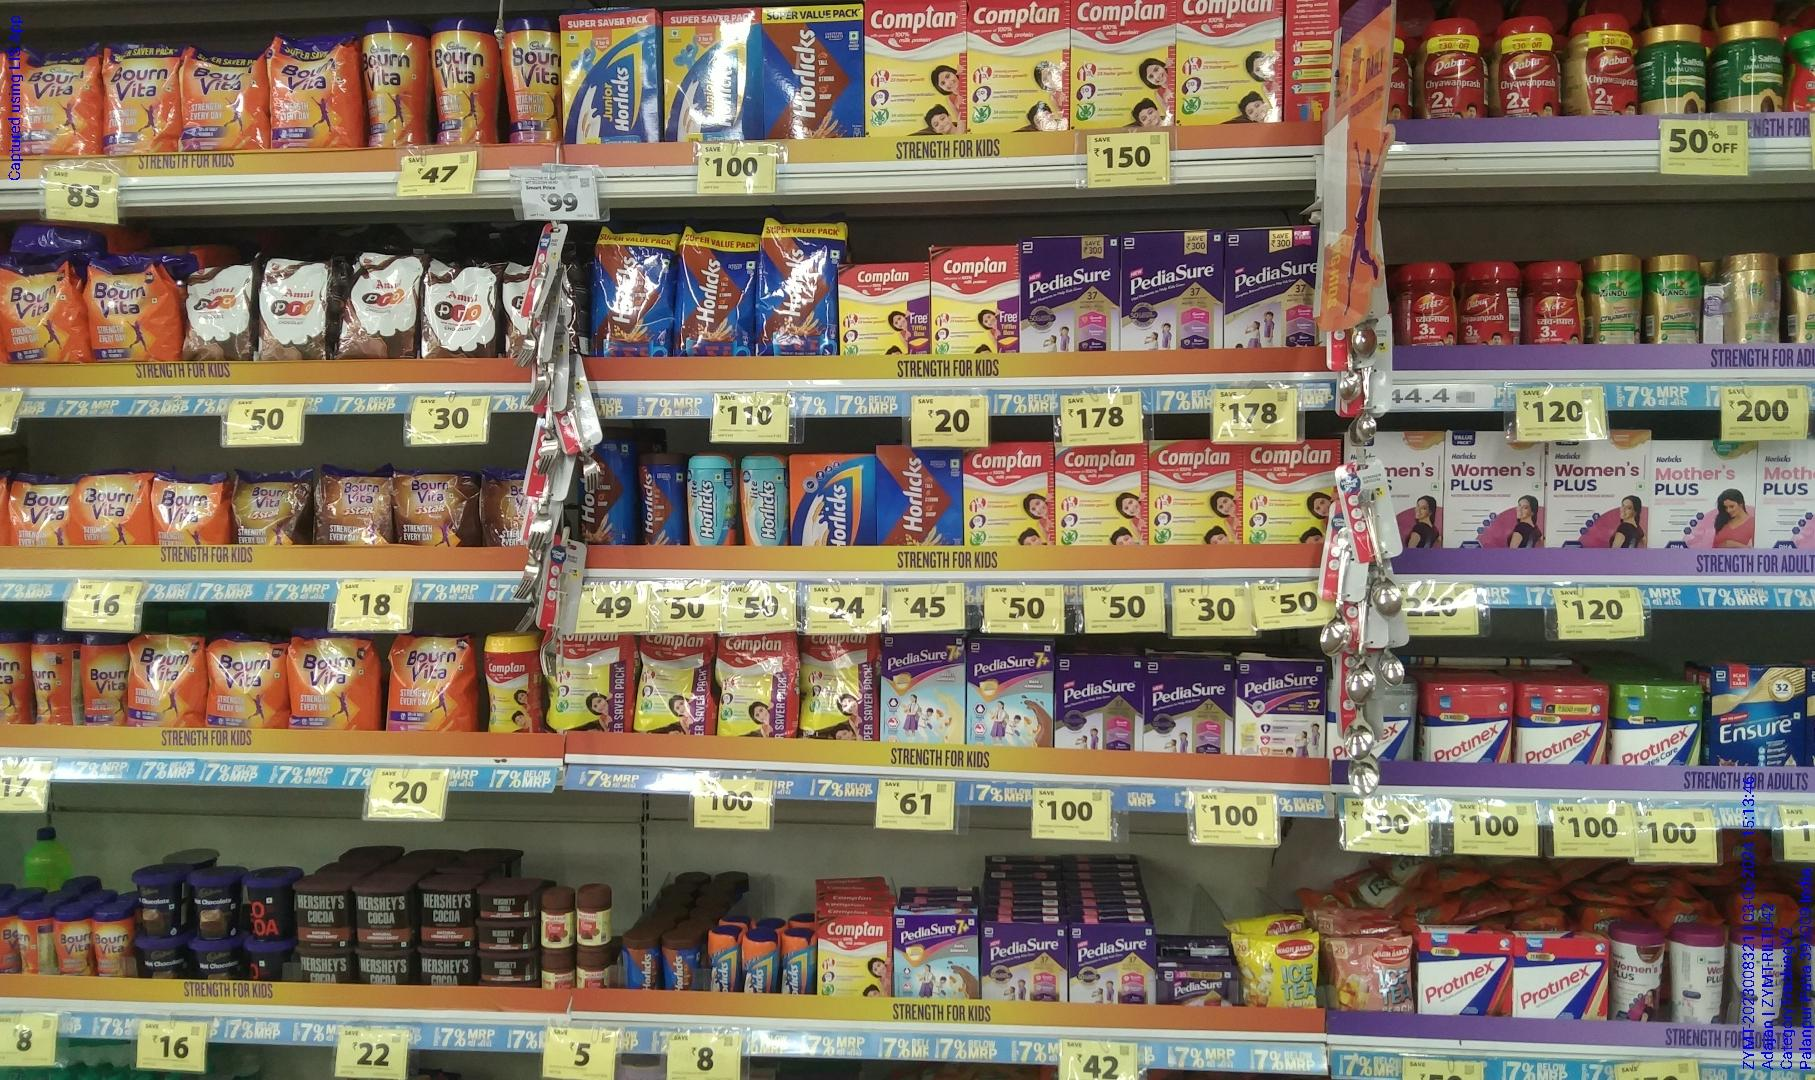BOURN_VITA_1_KG_JAR: (434, 19, 499, 144), (362, 21, 425, 145), (505, 18, 557, 141)
BOURN_VITA_500_G_JAR: (32, 633, 80, 725), (81, 633, 126, 728), (0, 634, 31, 725), (91, 910, 132, 976), (55, 910, 90, 976), (18, 914, 54, 976)
BOURN_VITA_500_G_POUCH: (157, 474, 230, 546)
BOURN_VITA_750_G_POUCH: (269, 36, 361, 149), (292, 631, 380, 730), (103, 44, 181, 154), (0, 261, 84, 364), (87, 265, 177, 359), (388, 635, 474, 733), (186, 50, 269, 150), (211, 633, 288, 729), (129, 635, 203, 725), (73, 471, 153, 546), (12, 476, 75, 545)
BOURN_VITA_FIVE_STAR_MAGIC_500_G_POUCH: (396, 468, 476, 545), (316, 468, 391, 545), (234, 469, 311, 541)
COMPLAN_CHOCOLATE_1_KG_PACK: (866, 1, 967, 135), (1176, 0, 1282, 123), (968, 0, 1067, 131), (1072, 5, 1175, 125)
COMPLAN_CHOCOLATE_200_GMS_PACK: (841, 264, 931, 355), (818, 915, 892, 996)
COMPLAN_CHOCOLATE_500_GMS_JAR: (486, 638, 540, 730)
COMPLAN_CREAMY_CLASSIC_500_G_PACK: (1057, 446, 1149, 546)
COMPLAN_PISTA_BADAM_500_GMS_PACK: (1152, 442, 1242, 544), (1244, 447, 1324, 544)
COMPLAN_RC_POUCH_700_GMS_12: (639, 631, 716, 737), (797, 634, 875, 737), (720, 636, 797, 741), (550, 633, 627, 730)
HORLICKS_LITE_REGULAR_MALT_500_GM_JAR: (688, 453, 737, 546), (740, 454, 785, 544)
HORLICK_CHOCOLATE_1_KG_PACK: (764, 8, 865, 136)
HORLICK_CHOCOLATE_500_G_JAR: (641, 454, 686, 545)
HORLICK_CHOCOLATE_500_G_PACK: (877, 446, 964, 546)
HORLICK_CHOCOLATE_750_G_POUCH: (757, 221, 839, 355), (595, 230, 674, 355), (679, 228, 752, 357)
HORLICK_CLASSIC_MALT_200_G_JAR: (663, 940, 702, 991), (623, 937, 659, 990)
HORLICK_CLASSIC_MALT_500_G_JAR: (743, 931, 779, 993), (782, 932, 814, 994), (710, 931, 742, 993)
HORLICK_CLASSIC_MALT_500_G_PACK: (788, 455, 875, 544)
PEDIASURE_7_PLUS_CHOCOLATE_400_G_PACK: (895, 917, 979, 999)
PEDIASURE_VANILLA_500_G_PACK: (1123, 234, 1224, 347), (1022, 242, 1121, 352), (1225, 231, 1314, 347), (1235, 662, 1325, 759)
PROTINEX_VANILLA_400_G_JAR: (1423, 680, 1510, 764), (1518, 681, 1607, 764)
